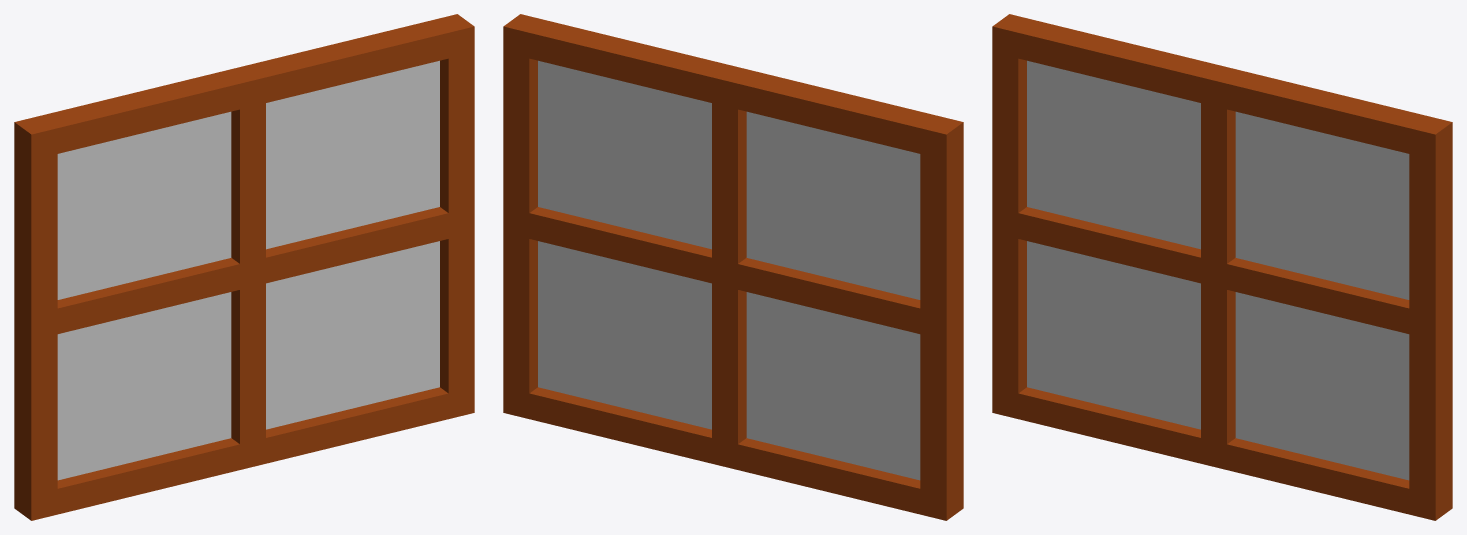
File: Window.fbx
3 renders of one model, left to right at view 1: azimuth 30°, elevation 25°; view 2: azimuth 150°, elevation 25°; view 3: azimuth 330°, elevation 25°, orthographic.
Parts seen in each view (by area): view 1: Window; view 2: Window; view 3: Window.
Boxes of the visible parts, bbox=[...] form: Window: bbox=[14, 14, 474, 520]; Window: bbox=[503, 14, 963, 520]; Window: bbox=[992, 14, 1452, 520].
Size of the model in its own units: 0.06 by 0.05 by 0.004.
